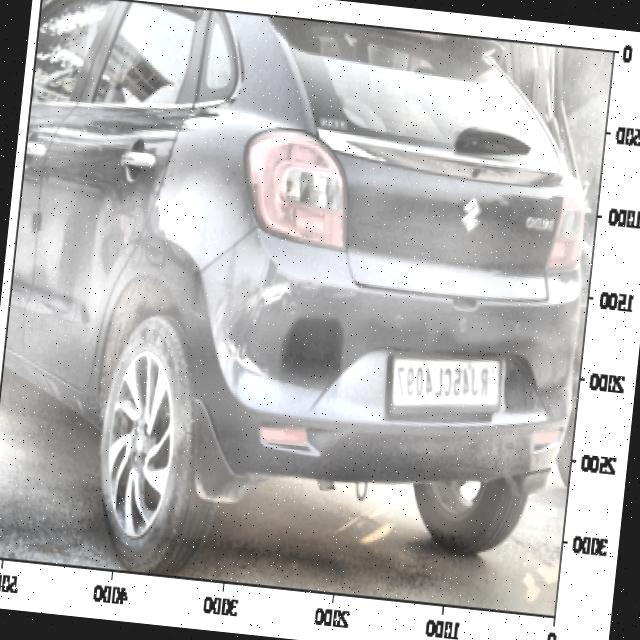license_plate: (388, 351, 502, 420)
